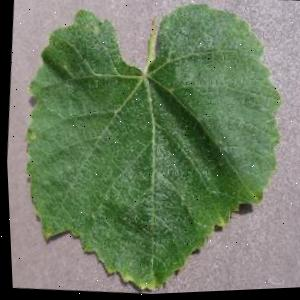Folha: (3, 0, 295, 300)
